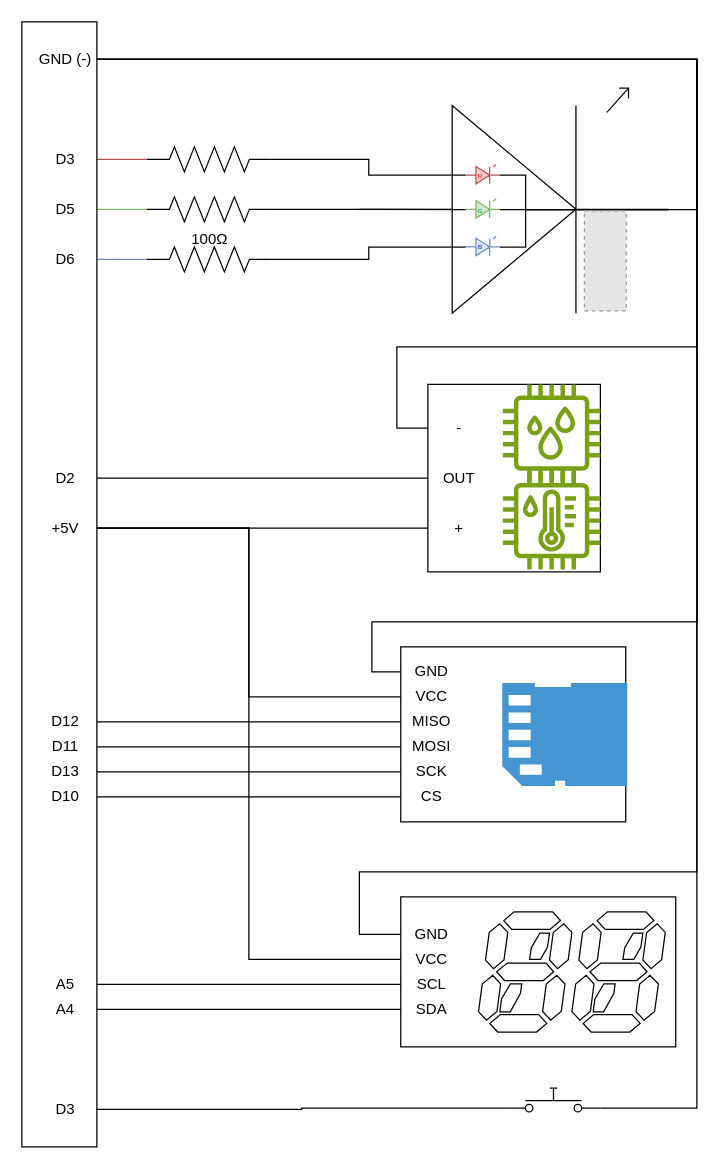
Some shapes in this 720 by 1169 pixel diagram are drawn without their labels. Grey dashed boxes stand in for pictures. Here are the shapes that lost their labels. From the top down, the centre of each, then its label:
At (209,159): "140Ω".
At (209,259): "100Ω".
